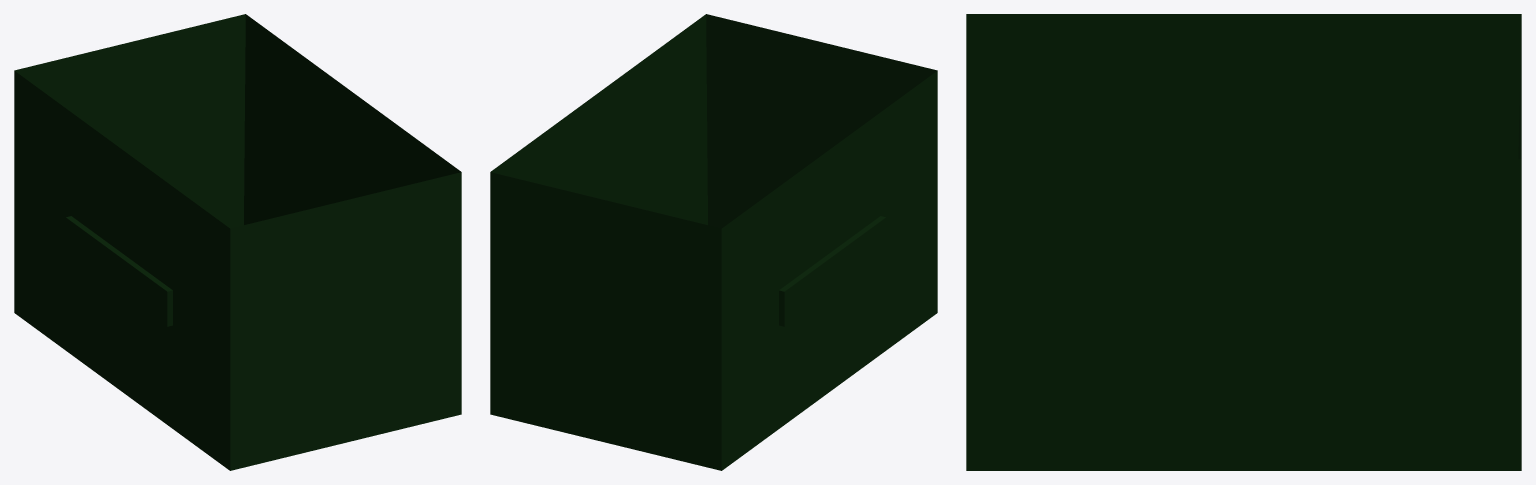
The model's file is repair_storage.obj.
The picture shows the model from 3 angles, left to right: view 1: azimuth 30°, elevation 25°; view 2: azimuth 150°, elevation 25°; view 3: azimuth 270°, elevation 25°; orthographic projection. The views are drawn at different scales.
Parts seen in each view (by area): view 1: Cube; view 2: Cube; view 3: Cube.
Part boxes in pixels (<box>): Cube: <box>14,14,461,470</box>; Cube: <box>490,14,937,470</box>; Cube: <box>966,14,1521,470</box>.
Size of the model in its own units: 2.05 by 2 by 3.23.
